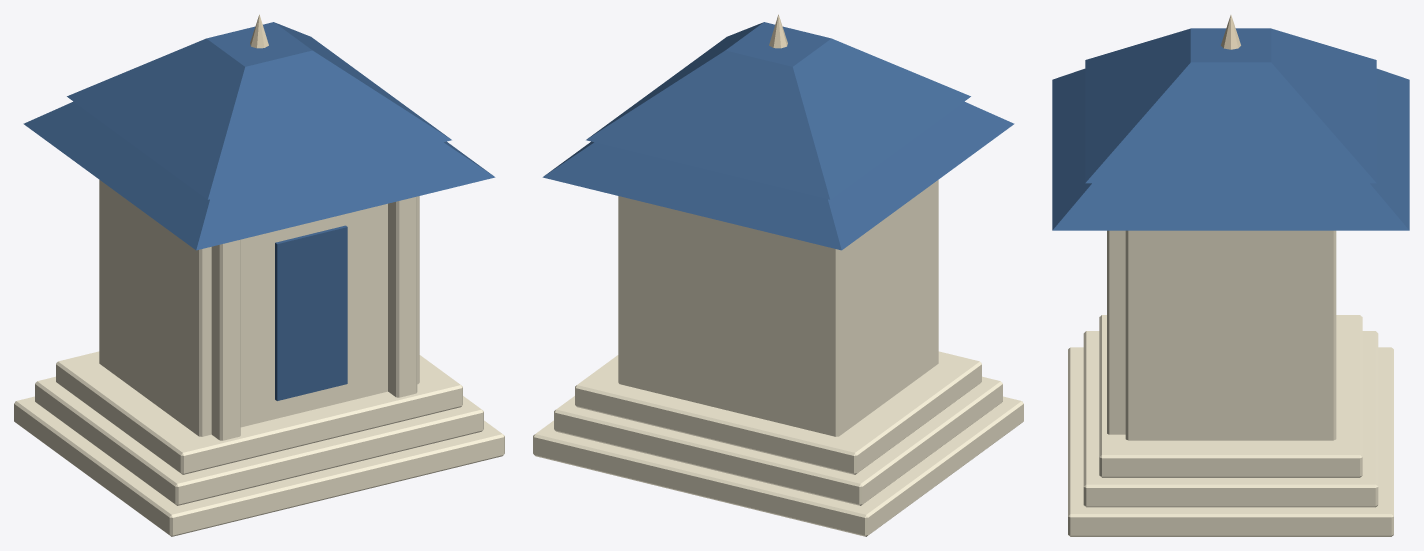
Rendered from tpe_blue_roof_pavilion.glb.
The picture shows the model from 3 angles, left to right: view 1: azimuth 30°, elevation 25°; view 2: azimuth 150°, elevation 25°; view 3: azimuth 270°, elevation 25°; orthographic projection. The views are drawn at different scales.
Parts seen in each view (by area): view 1: tpe_blue_roof_pavilion__pavilion-white, tpe_blue_roof_pavilion__pavilion-blue; view 2: tpe_blue_roof_pavilion__pavilion-white, tpe_blue_roof_pavilion__pavilion-blue; view 3: tpe_blue_roof_pavilion__pavilion-white, tpe_blue_roof_pavilion__pavilion-blue.
Boxes of the visible parts, box(x1,y1,x2,y2) form: tpe_blue_roof_pavilion__pavilion-white: box(14, 180, 504, 536); tpe_blue_roof_pavilion__pavilion-blue: box(23, 22, 495, 400); tpe_blue_roof_pavilion__pavilion-white: box(533, 180, 1023, 536); tpe_blue_roof_pavilion__pavilion-blue: box(542, 22, 1014, 250); tpe_blue_roof_pavilion__pavilion-white: box(1068, 230, 1393, 536); tpe_blue_roof_pavilion__pavilion-blue: box(1052, 28, 1409, 230).
Size of the model in its own units: 36.33 by 44.08 by 32.45.
